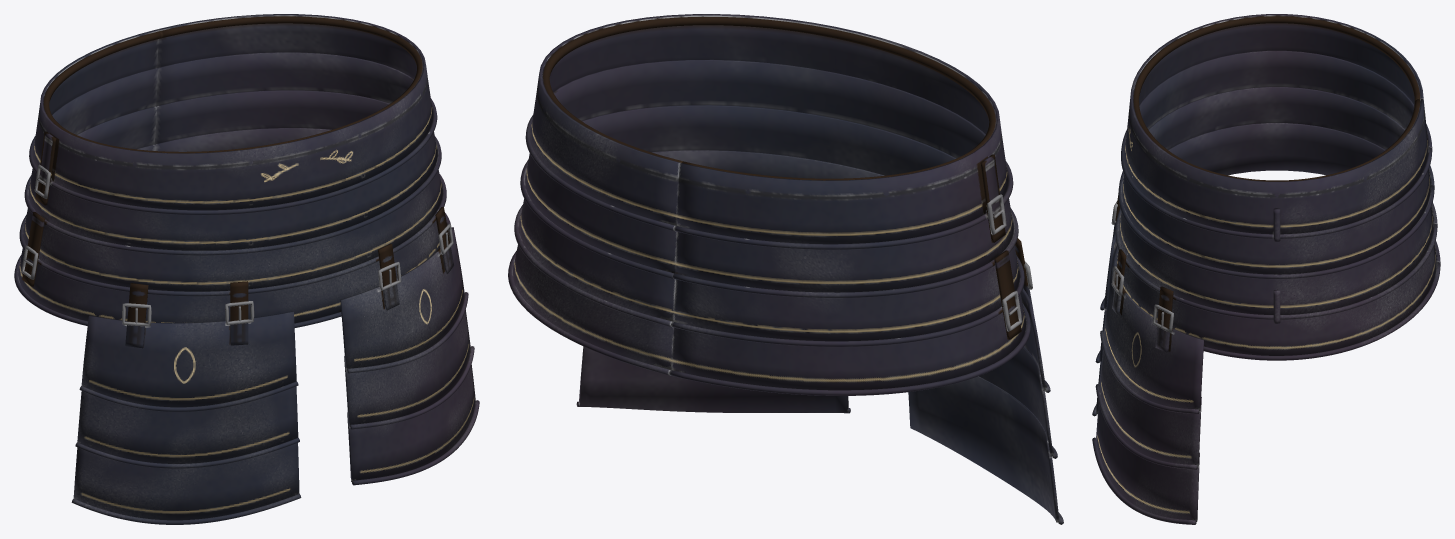
Rendered from SM_ObsidianSovereign_Waist.fbx.
3 views of the same model, side by side, from view 1: azimuth 30°, elevation 25°; view 2: azimuth 150°, elevation 25°; view 3: azimuth 270°, elevation 25° (orthographic). The views are drawn at different scales.
Parts seen in each view (by area): view 1: SM_ObsidianSovereign_Waist; view 2: SM_ObsidianSovereign_Waist; view 3: SM_ObsidianSovereign_Waist.
Part boxes in pixels (left/top/right/bottom): SM_ObsidianSovereign_Waist: left=14, top=14, right=479, bottom=524; SM_ObsidianSovereign_Waist: left=508, top=14, right=1063, bottom=524; SM_ObsidianSovereign_Waist: left=1092, top=14, right=1440, bottom=524.
Size of the model in its own units: 39.65 by 29.84 by 32.46.
